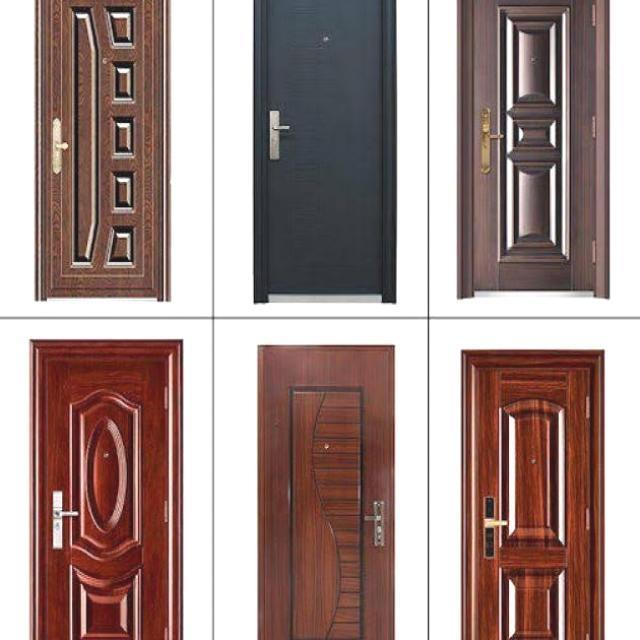door: (457, 1, 614, 301), (28, 338, 182, 639), (252, 0, 396, 303), (460, 348, 605, 639), (256, 342, 396, 640), (35, 0, 169, 301)
